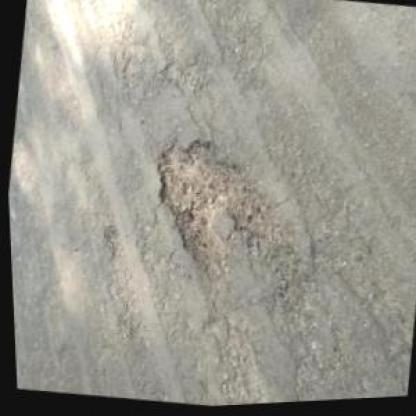pothole: (136, 128, 299, 291)
